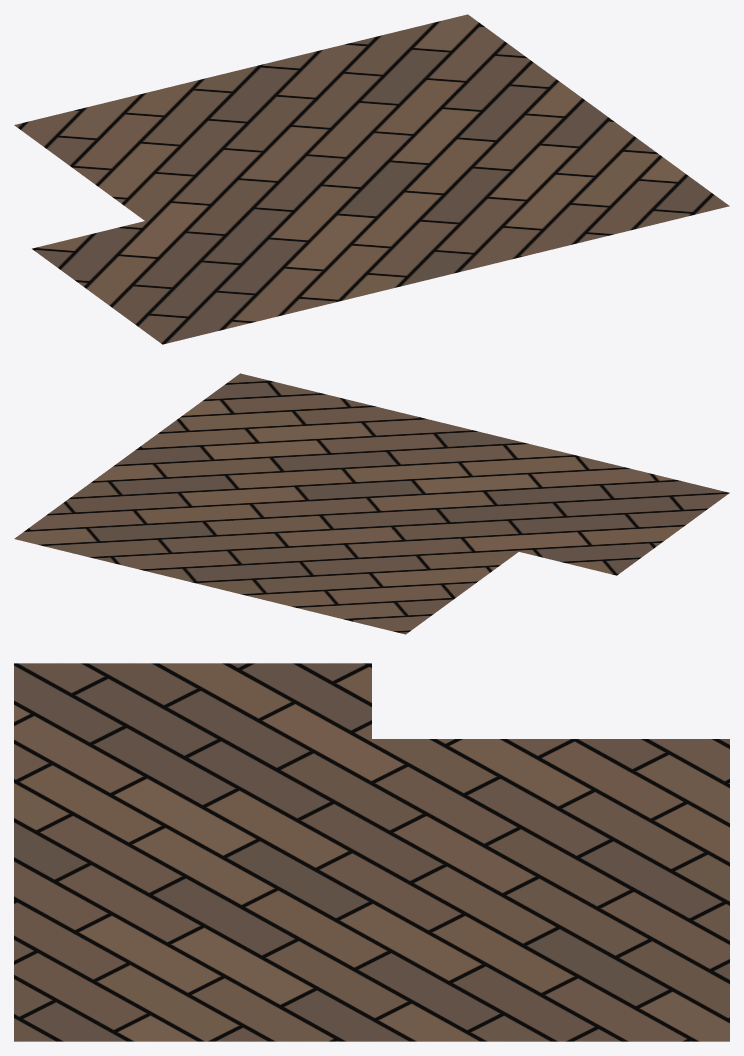
File: N02_Piso_Cuarto.fbx
3 views of the same model, one above another, from view 1: azimuth 30°, elevation 25°; view 2: azimuth 150°, elevation 25°; view 3: azimuth 270°, elevation 25° (orthographic). The views are drawn at different scales.
Visible parts, largest first — view 1: N02_Piso_Cuarto; view 2: N02_Piso_Cuarto; view 3: N02_Piso_Cuarto.
Part boxes in pixels (x1,y1,x2,y2): N02_Piso_Cuarto: (14,14,729,344); N02_Piso_Cuarto: (14,373,729,634); N02_Piso_Cuarto: (14,663,729,1041).
Bounding box in the file's own units: 500 × 6.52e-05 × 400.
1 material, 1 textured.
